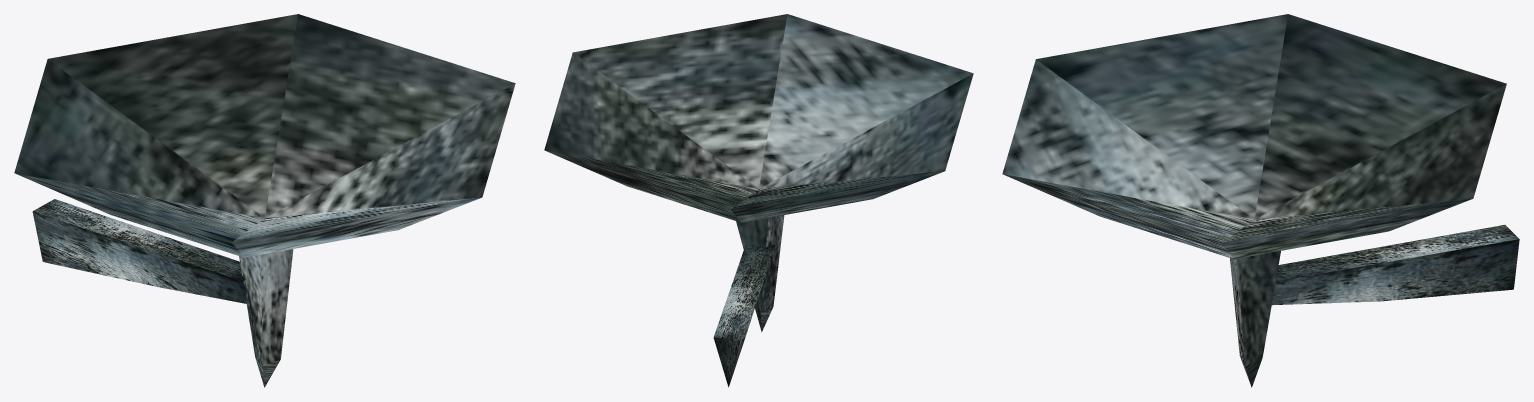
3 views of the same model, side by side, from view 1: azimuth 30°, elevation 25°; view 2: azimuth 150°, elevation 25°; view 3: azimuth 270°, elevation 25° (orthographic). The views are drawn at different scales.
Parts seen in each view (by area): view 1: Hp42; view 2: Hp42; view 3: Hp42.
Part boxes in pixels (bbox=[...]): Hp42: bbox=[14, 14, 515, 387]; Hp42: bbox=[544, 14, 973, 387]; Hp42: bbox=[1002, 14, 1519, 387].
Bounding box in the file's own units: 29.26 × 15.43 × 27.82.
